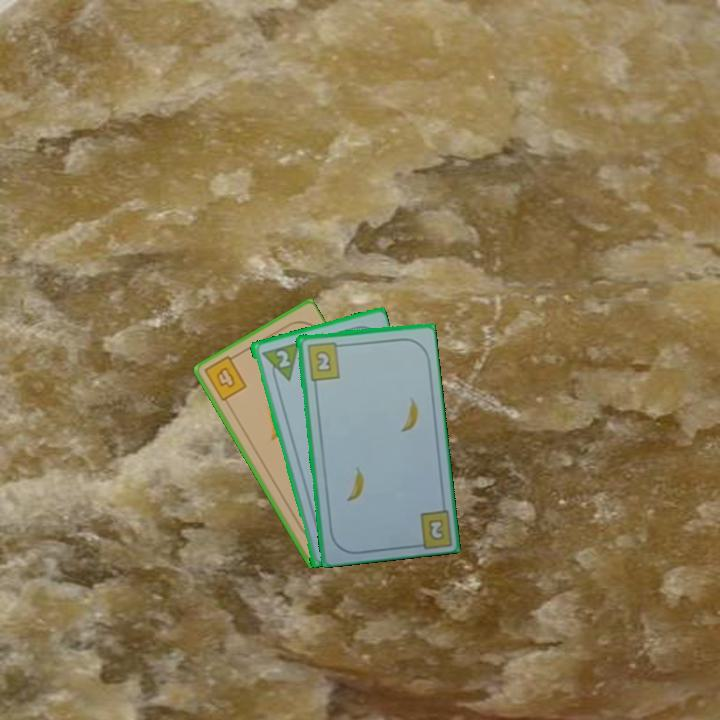2b: (303, 338, 345, 383), (424, 515, 447, 543)
2p: (257, 339, 301, 387)
4b: (201, 350, 249, 404)
